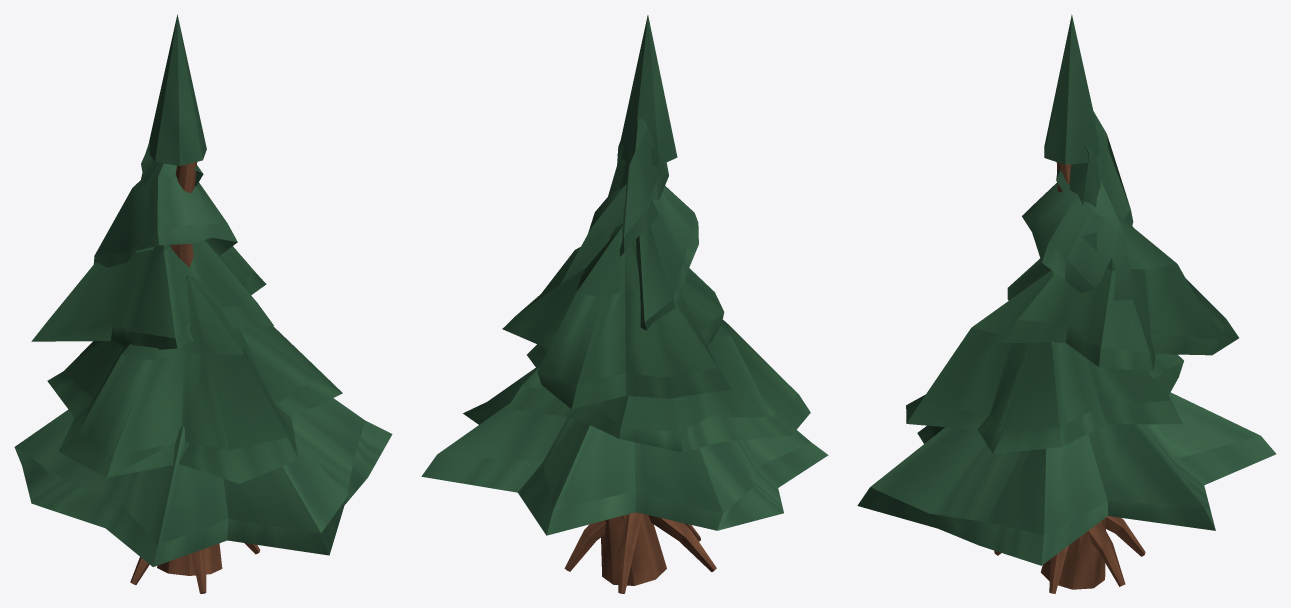
The model's file is SM_Tree_Pine_Small01.fbx.
The picture shows the model from 3 angles, left to right: view 1: azimuth 30°, elevation 25°; view 2: azimuth 150°, elevation 25°; view 3: azimuth 270°, elevation 25°; orthographic projection.
Parts seen in each view (by area): view 1: SM_Tree_Pine_Small01; view 2: SM_Tree_Pine_Small01; view 3: SM_Tree_Pine_Small01.
Part boxes in pixels (left/top/right/bottom): SM_Tree_Pine_Small01: left=14, top=14, right=392, bottom=593; SM_Tree_Pine_Small01: left=421, top=15, right=828, bottom=593; SM_Tree_Pine_Small01: left=857, top=14, right=1276, bottom=593.
Size of the model in its own units: 6.66 by 10.48 by 7.15.
Materials: 1 (1 with a texture image).
